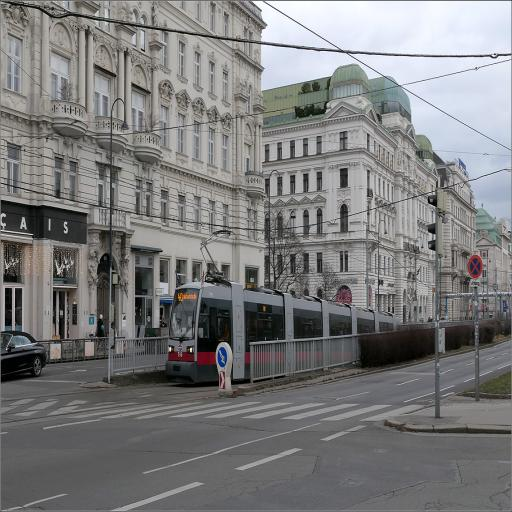ULF: (164, 281, 401, 384)
